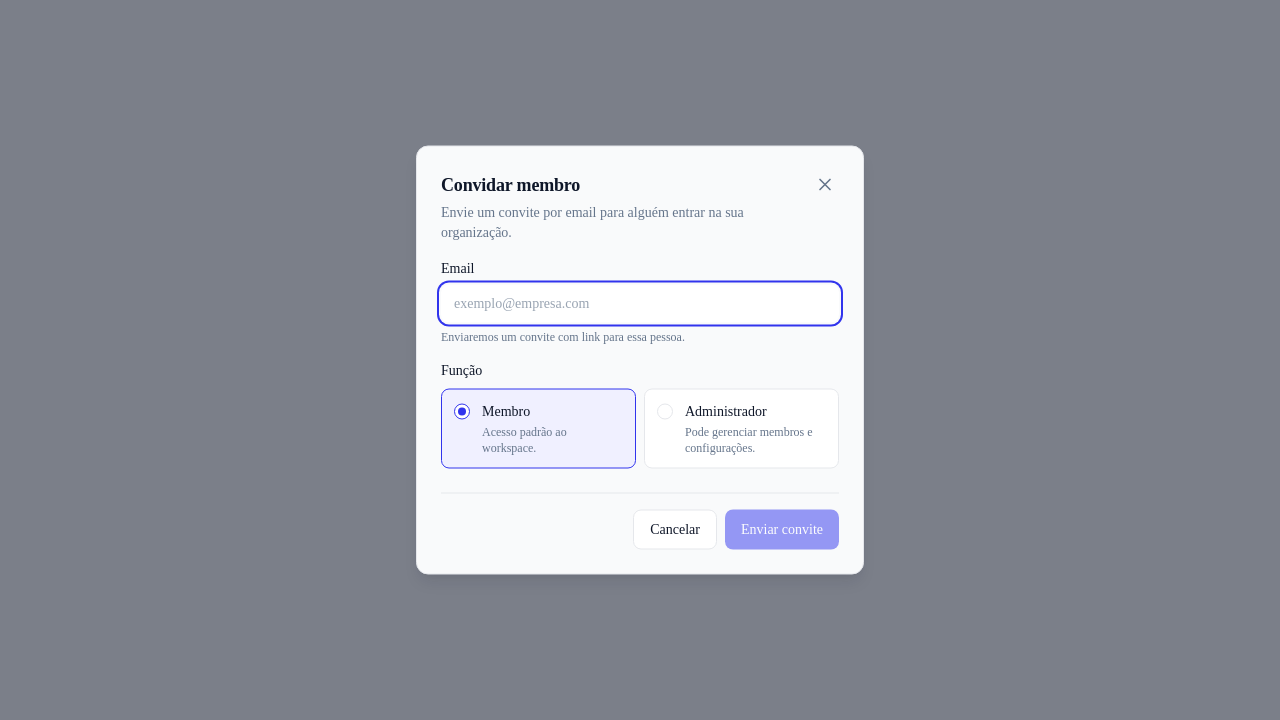
InviteModal — server error mapping › maps 422 fieldErrors.email to the inline error
Step 1. Type "bruno@acme.com" into the field labelled "Email" → [640, 304], box [441,284,839,322]
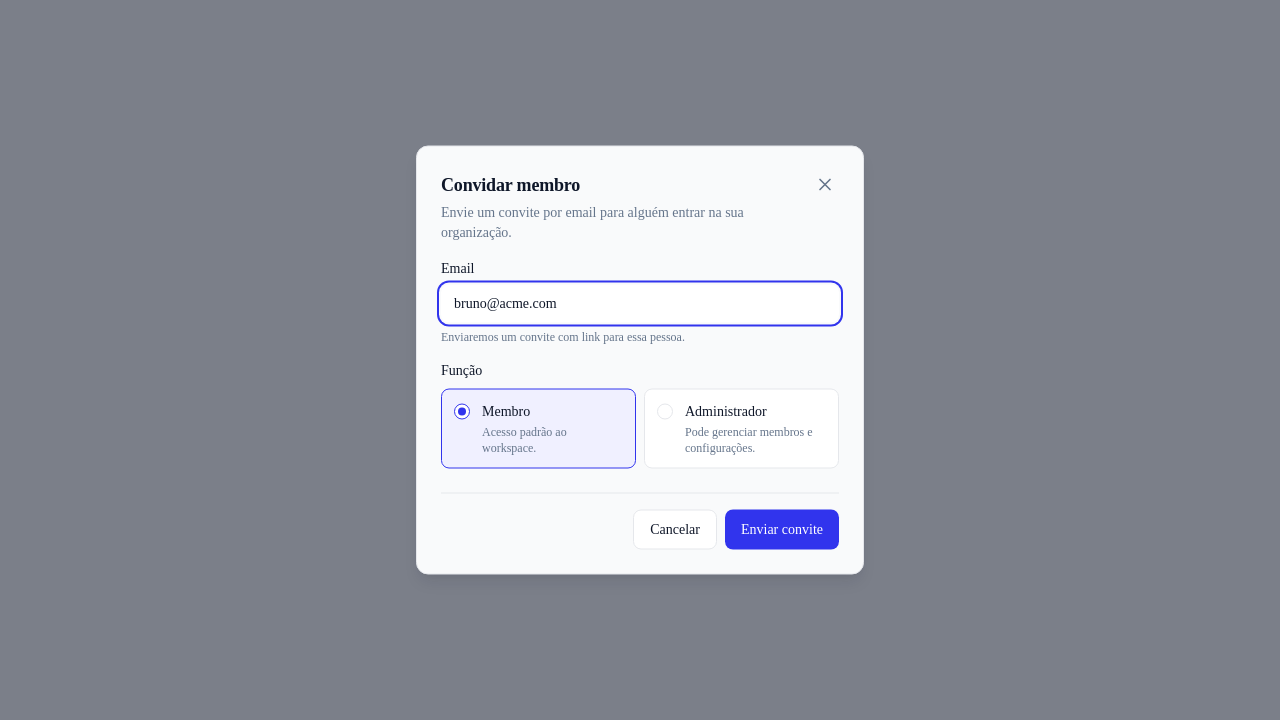
Step 2. Click the button "Enviar convite" → [782, 530], box [725,510,839,550]
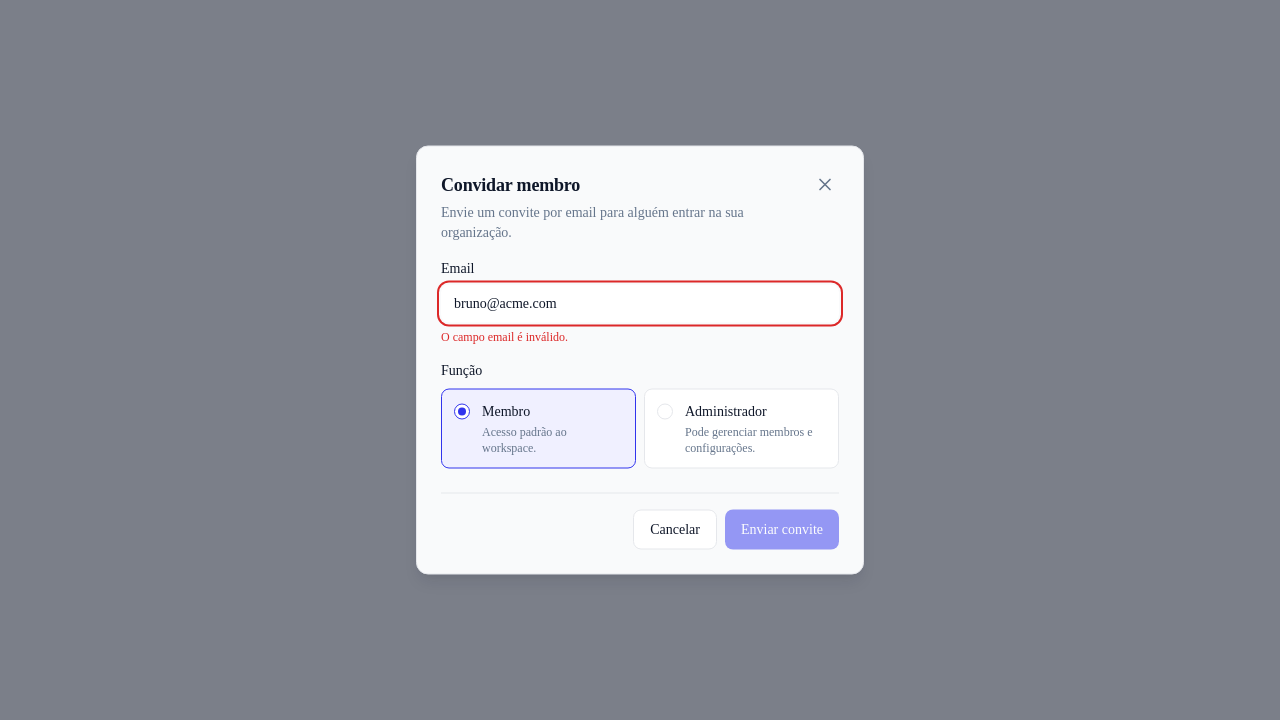
expect the text "O campo email é inválido." is shown: met, box [441,330,568,344]
